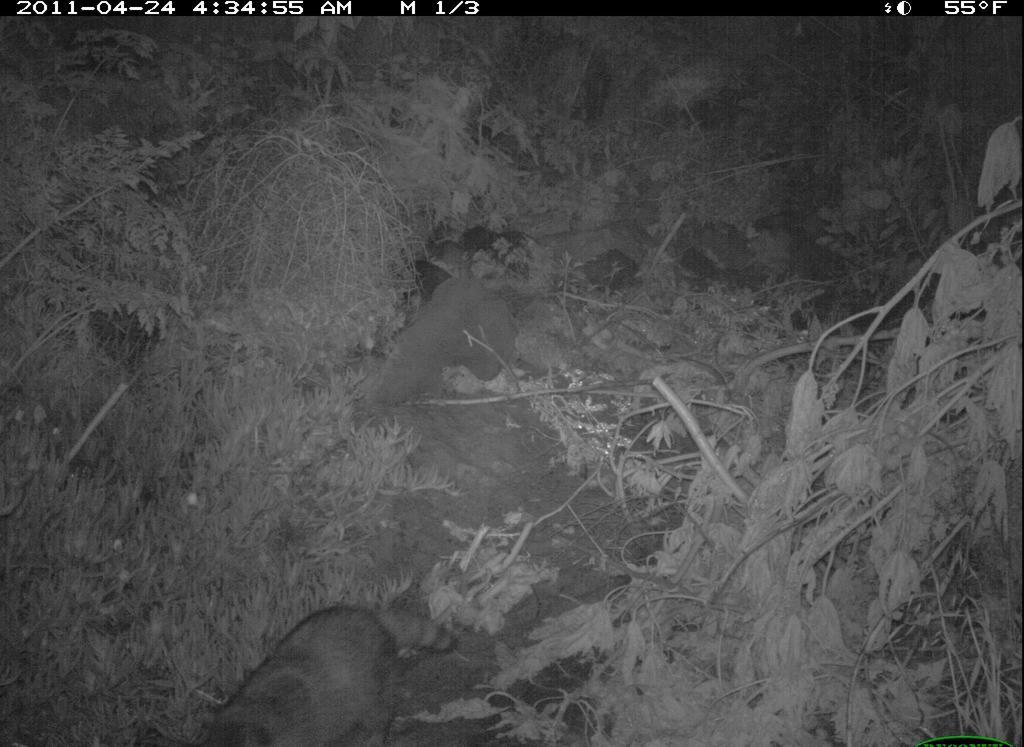raccoon: (195, 600, 464, 747)
